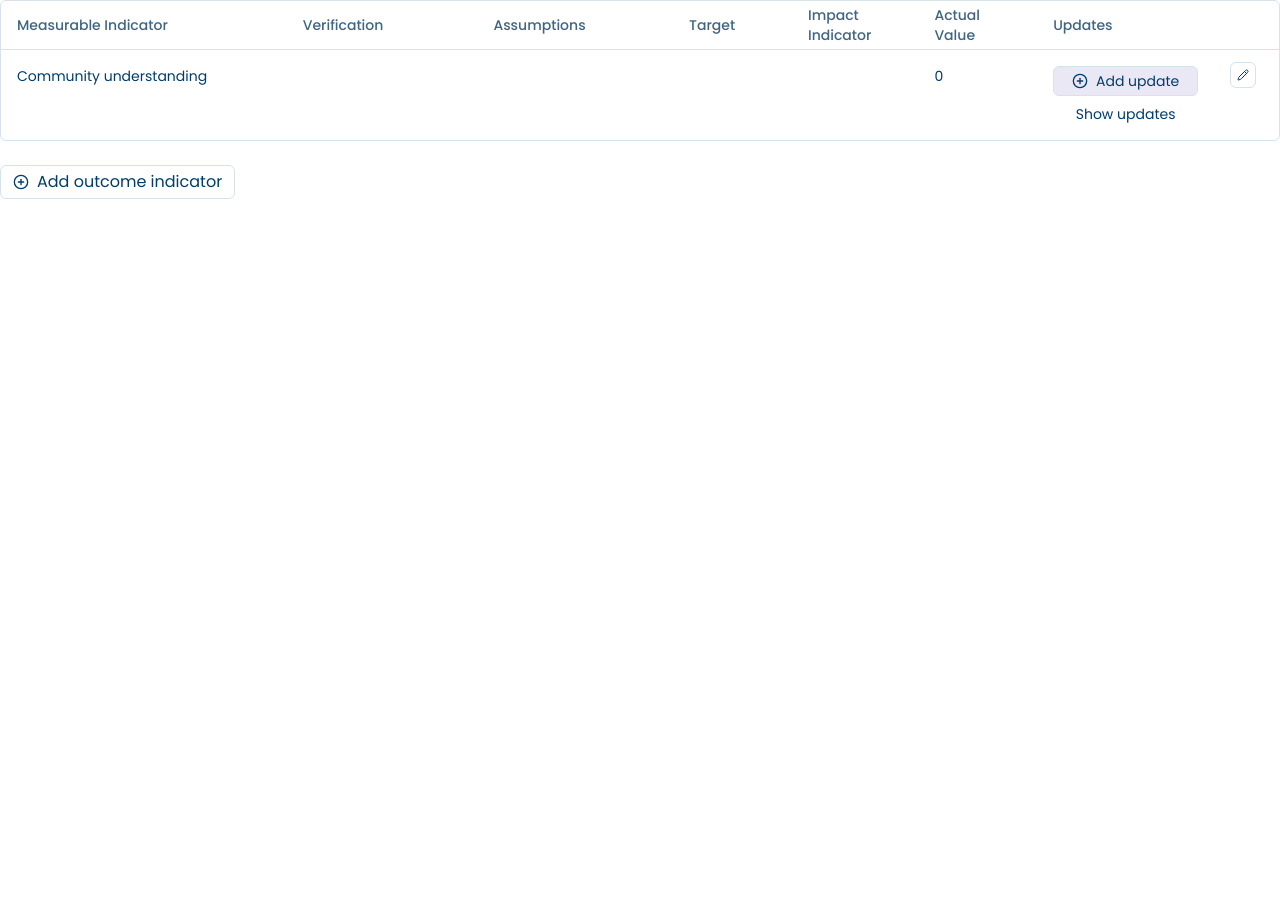
an unresolved unmapped outcome still requires a mapping before adding updates
Click the button "Add update" at (1126, 80), box [1053,66,1198,96]
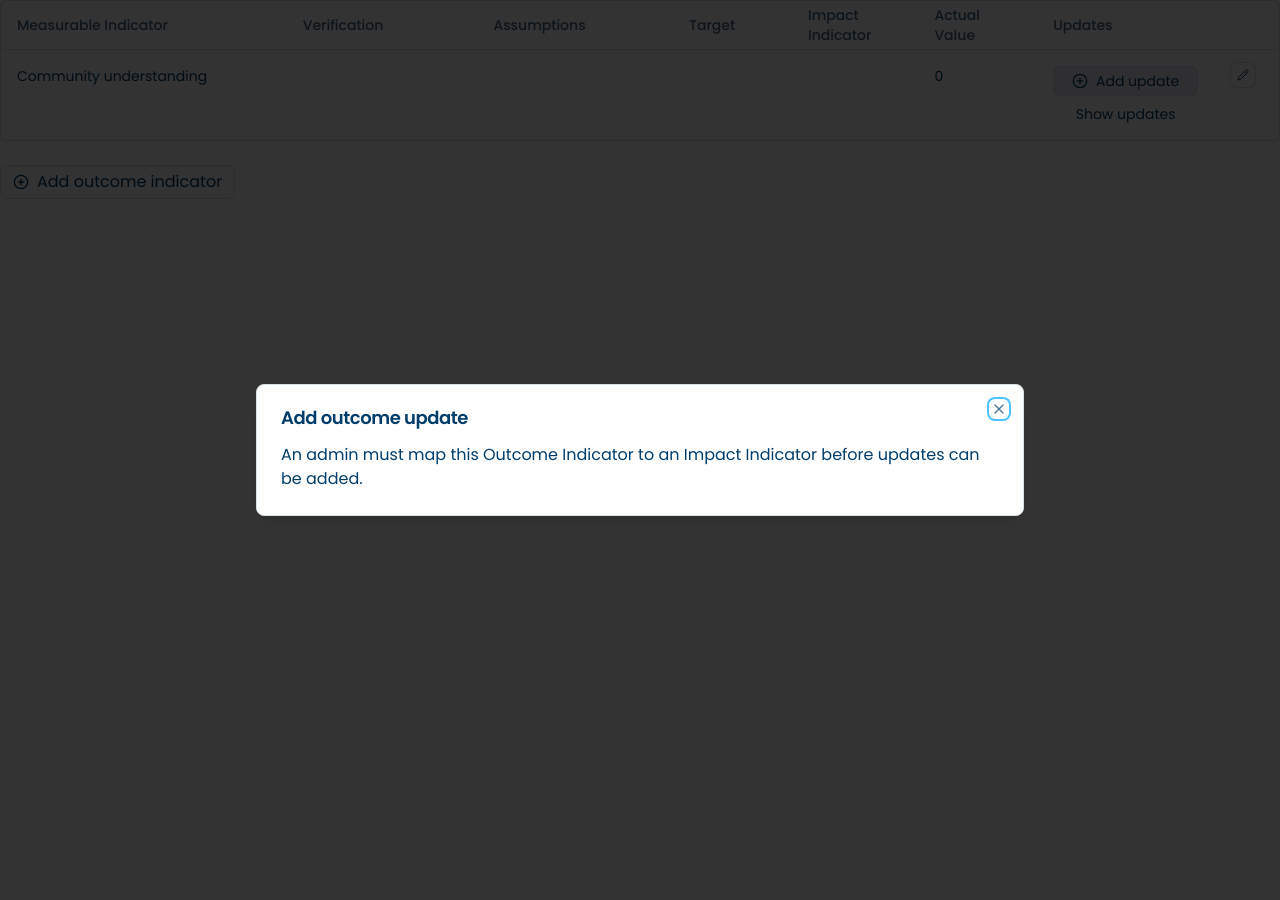
Now the text "An admin must map this Outcome Indicator" is shown, box [281,443,980,490]
